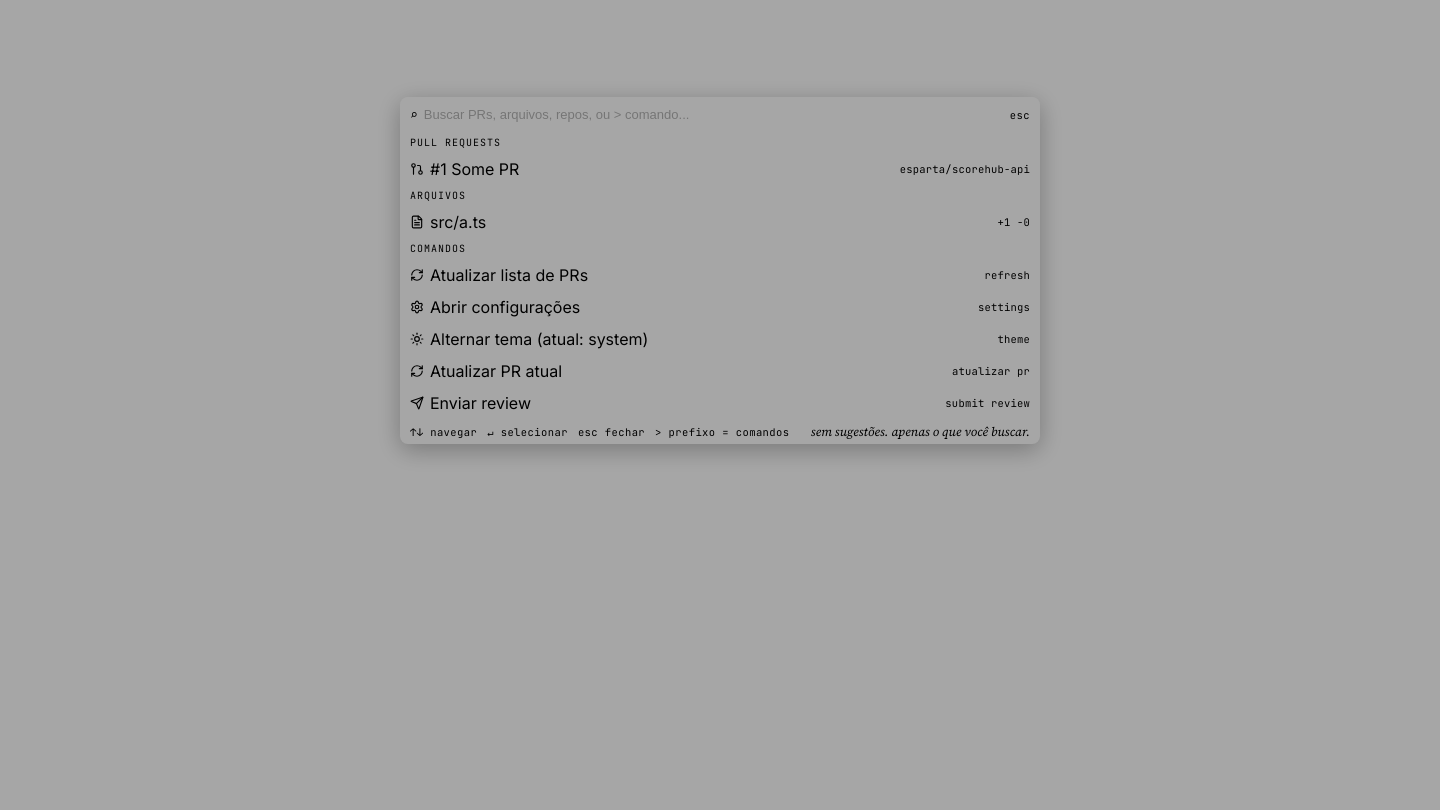
Test: CommandPalette › > prefix hides PRs and files, shows commands only
In the field labelled "Buscar": (714, 115) x1=424 y1=103 x2=1004 y2=126, type ">"
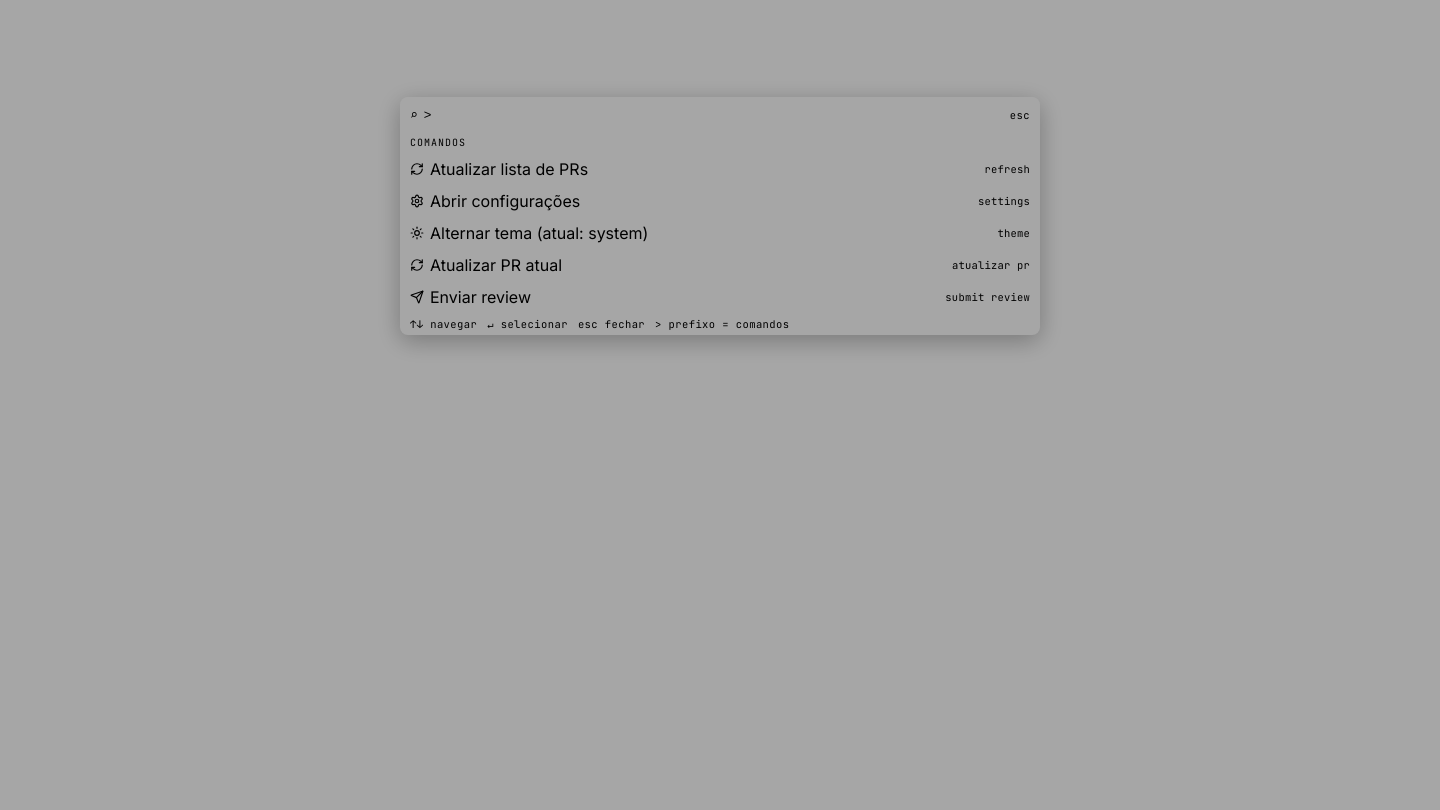
expect the text "Abrir configurações" is shown: met, box x1=430 y1=191 x2=580 y2=211
expect the option "#1 Some PR" is gone: met
expect the option "src/a.ts" is gone: met
